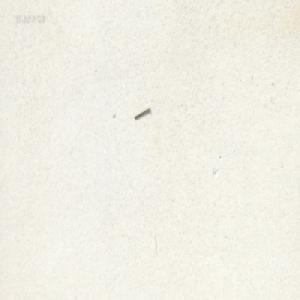Bolt: (133, 105, 150, 120)
